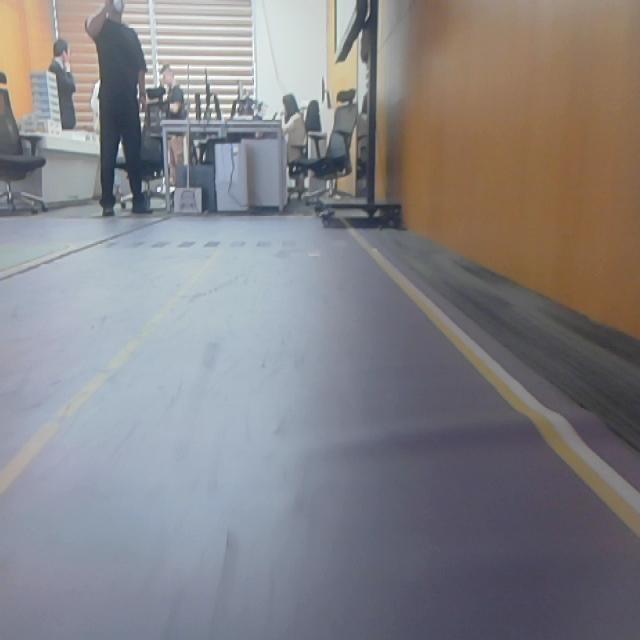left_lane: (1, 251, 220, 496)
right_lane: (341, 218, 640, 533)
